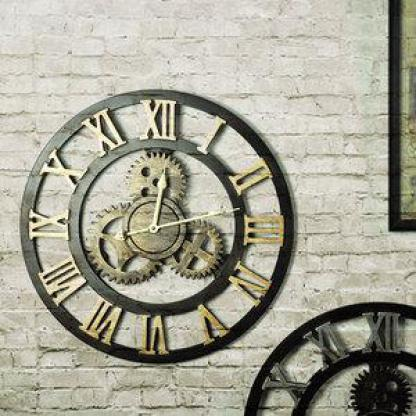FOD: (84, 204, 166, 287), (122, 146, 192, 212), (167, 216, 228, 280)
